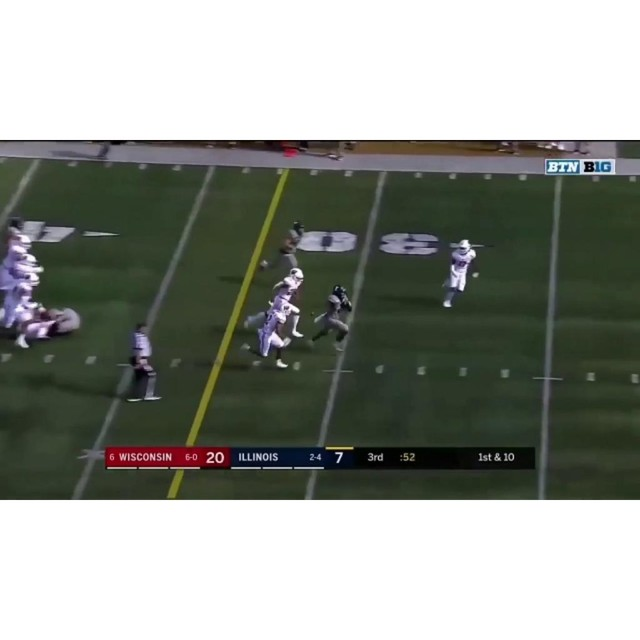american-football-player: (242, 302, 292, 369), (439, 239, 480, 309), (310, 286, 352, 349), (22, 308, 83, 345), (263, 219, 305, 272)
referee: (123, 321, 163, 404)
